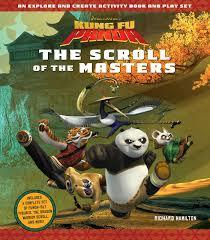KungfuPanda: (85, 122, 178, 216)
